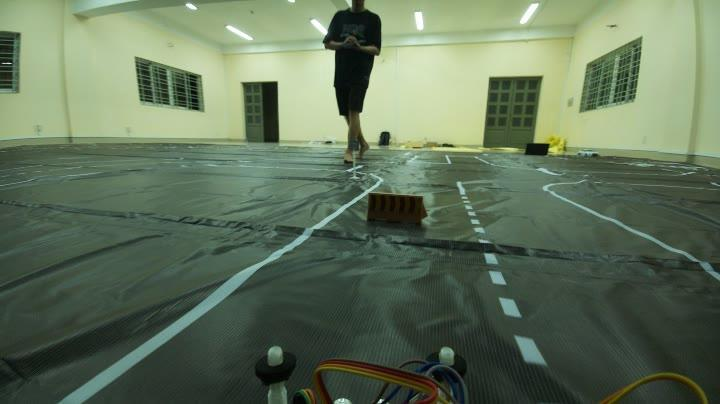roadblock: (364, 188, 435, 240)
